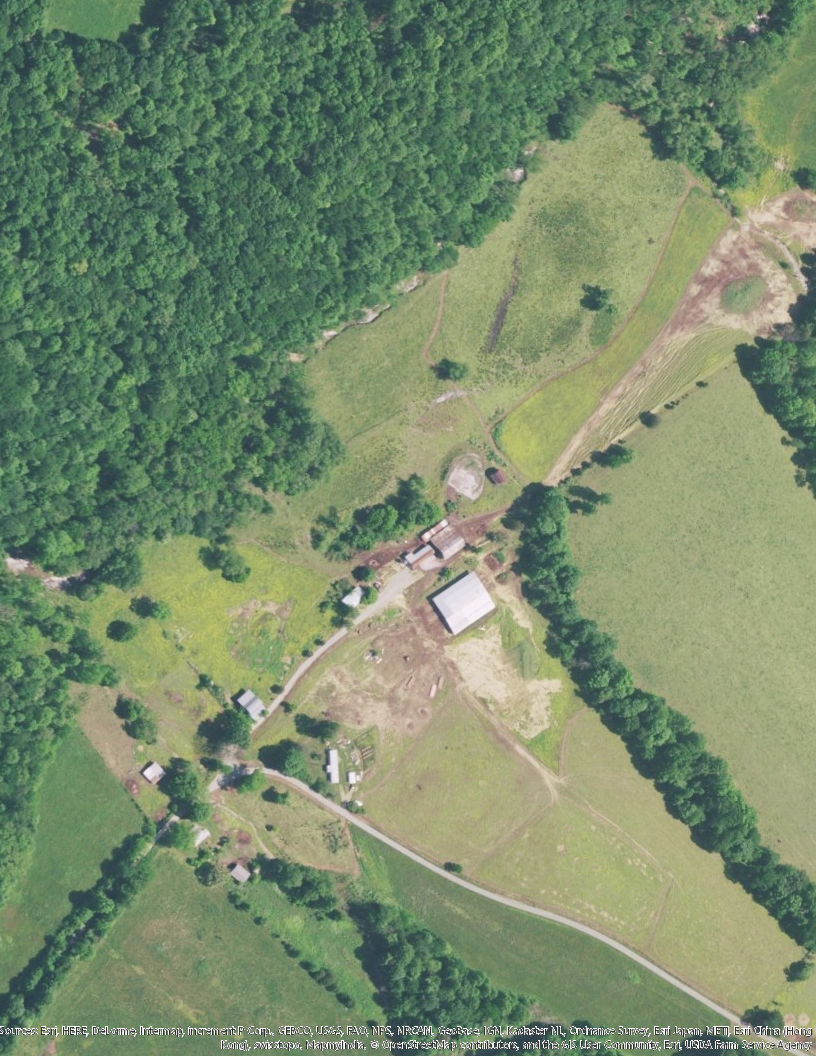cafo: (429, 563, 501, 634), (403, 514, 471, 574)
